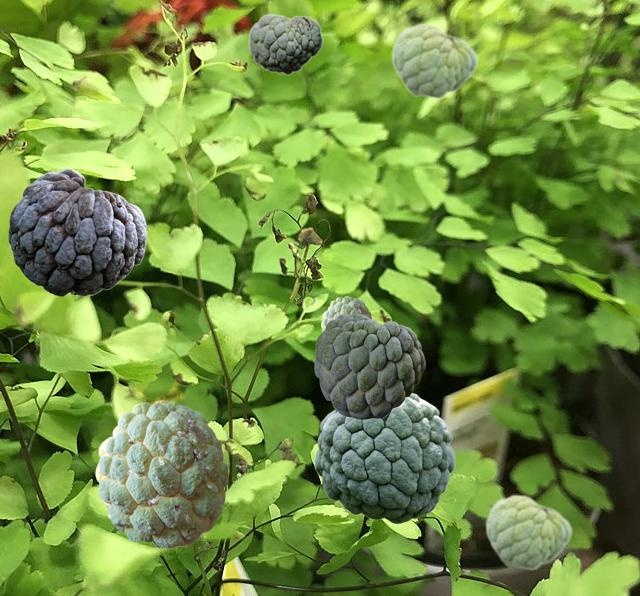atis: (95, 400, 227, 547), (314, 392, 454, 523), (8, 168, 146, 295), (314, 313, 424, 418), (484, 493, 571, 570), (390, 22, 477, 99), (248, 13, 322, 74), (321, 296, 372, 330)
